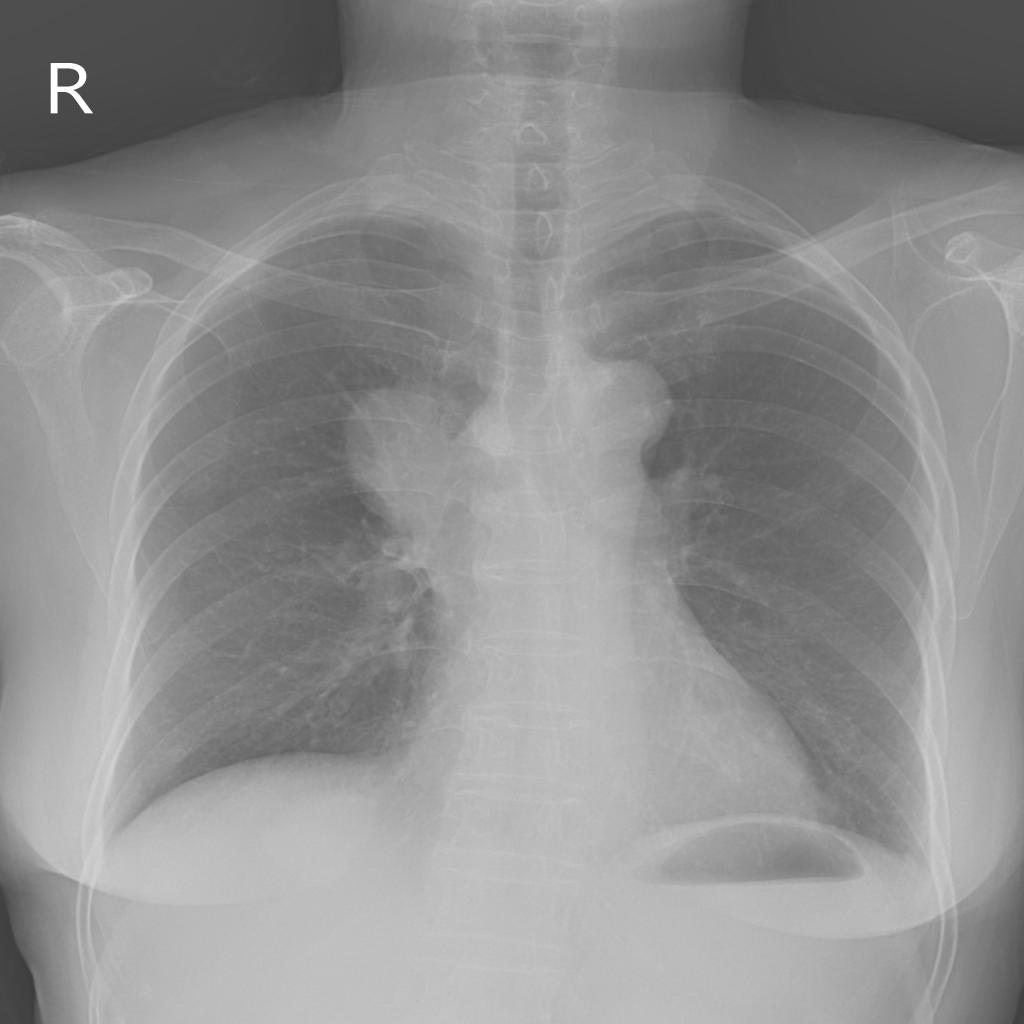Nodule: (341, 383, 473, 528)
